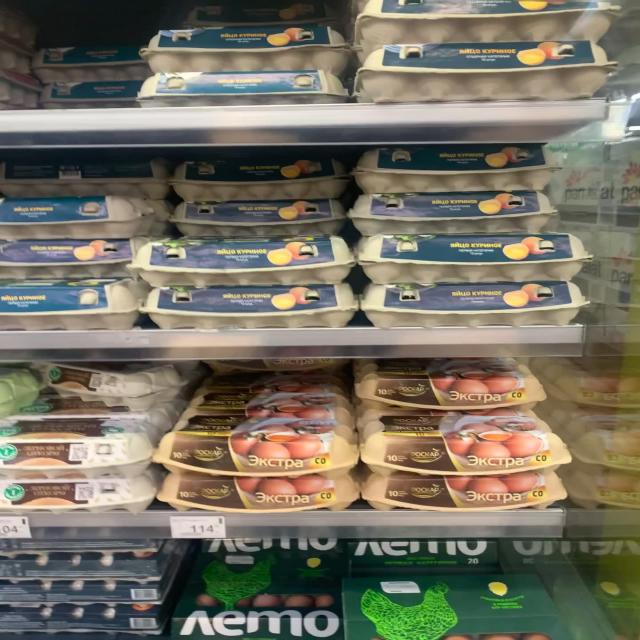egg box: (361, 36, 607, 100), (348, 571, 560, 637), (174, 557, 346, 637), (358, 412, 572, 475), (160, 416, 356, 476), (364, 277, 579, 326), (357, 233, 580, 280), (363, 357, 545, 413), (146, 17, 341, 69), (0, 412, 153, 476), (140, 284, 357, 328), (138, 238, 352, 282), (353, 188, 554, 233), (356, 148, 558, 192), (180, 373, 353, 421), (368, 472, 566, 513), (162, 474, 360, 514), (0, 148, 169, 189), (169, 198, 341, 238), (181, 160, 343, 201), (139, 72, 346, 104), (2, 192, 146, 237), (37, 361, 168, 410), (2, 280, 133, 327), (5, 241, 138, 277), (36, 40, 154, 79), (37, 73, 147, 109), (3, 479, 149, 506)
